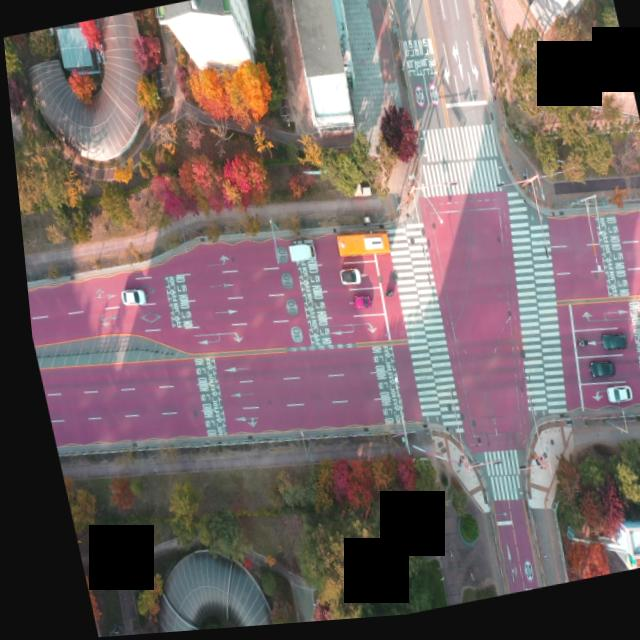car: (114, 288, 142, 310), (582, 367, 607, 390), (597, 392, 624, 413), (592, 339, 620, 359), (332, 270, 355, 290), (346, 299, 364, 315)
large_bus: (331, 230, 386, 267)
small_truck: (281, 242, 311, 269)
